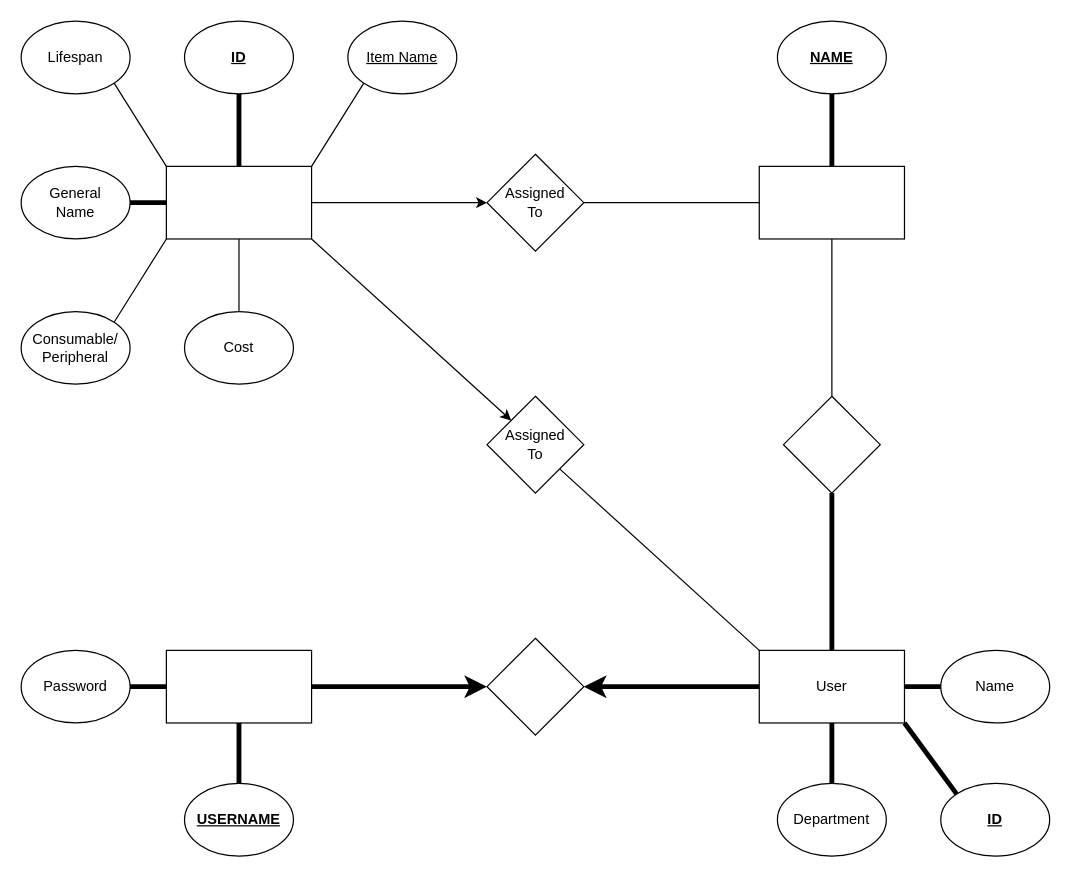
Some shapes in this 1071 by 877 pixel diagram are drawn without their labels. The box of each missing label's shape, as (x1, y1, x2, y2) in pixels:
Has A: (486, 637, 584, 735)
Item: (165, 165, 312, 239)
Location: (758, 165, 904, 239)
User Account: (165, 649, 312, 723)
Works In: (782, 395, 880, 493)
